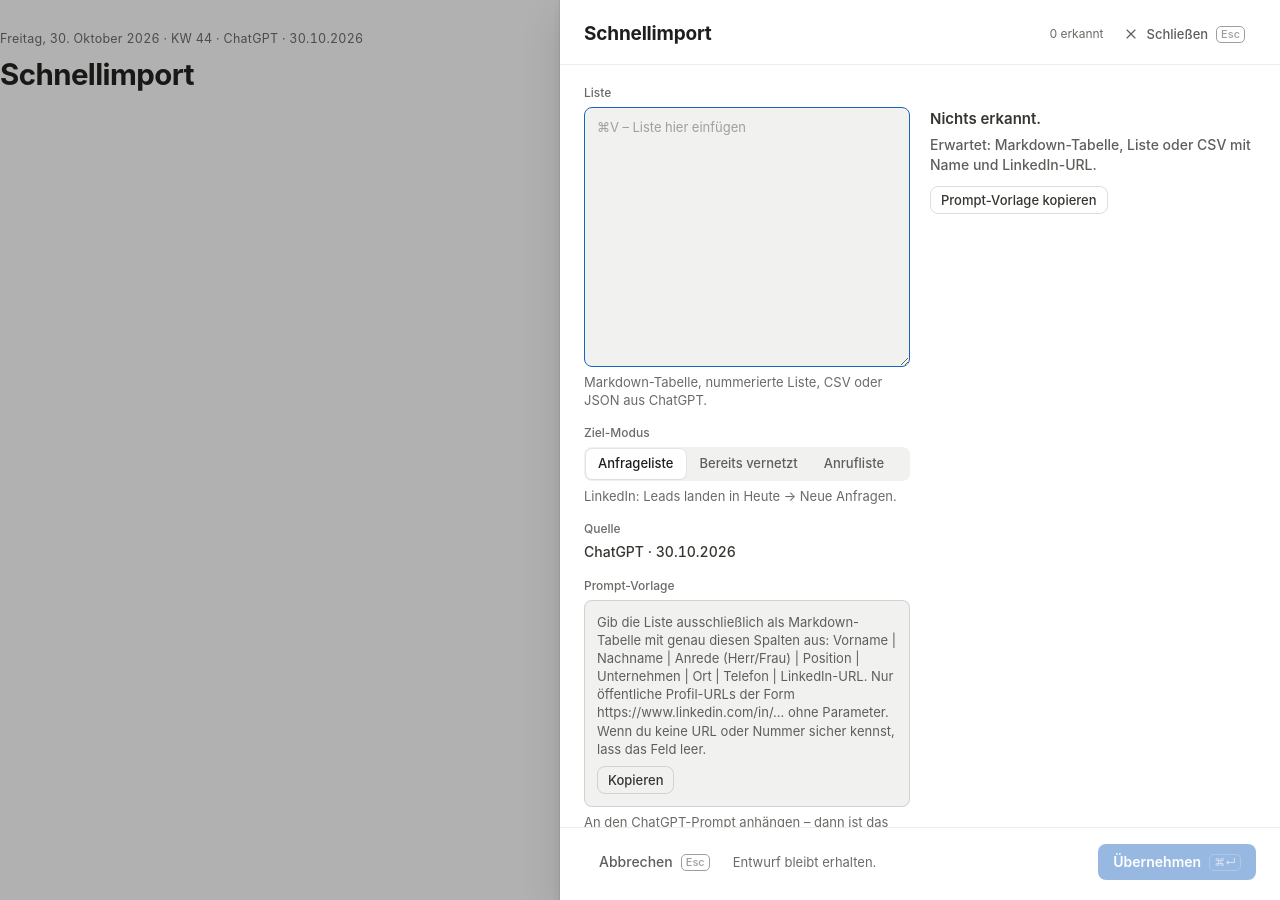
Test: Schnellimport › I-07: parst die Liste live und zeigt je Zeile den lokalen Chip, nach dem Dry-Run die Server-Chips
The image size is (1280, 900).
Type "| Name | Position | Unternehmen | Ort | LinkedIn | |---|---|---|---|---| | Max Mustermann | Geschäftsführer | Sonnenkraft GmbH | Hamburg | https://www.linkedin.com/in/max-mustermann/ | | Frau Eva Lang" into the text box labelled "Liste" at (747, 237), box [584, 107, 910, 367]
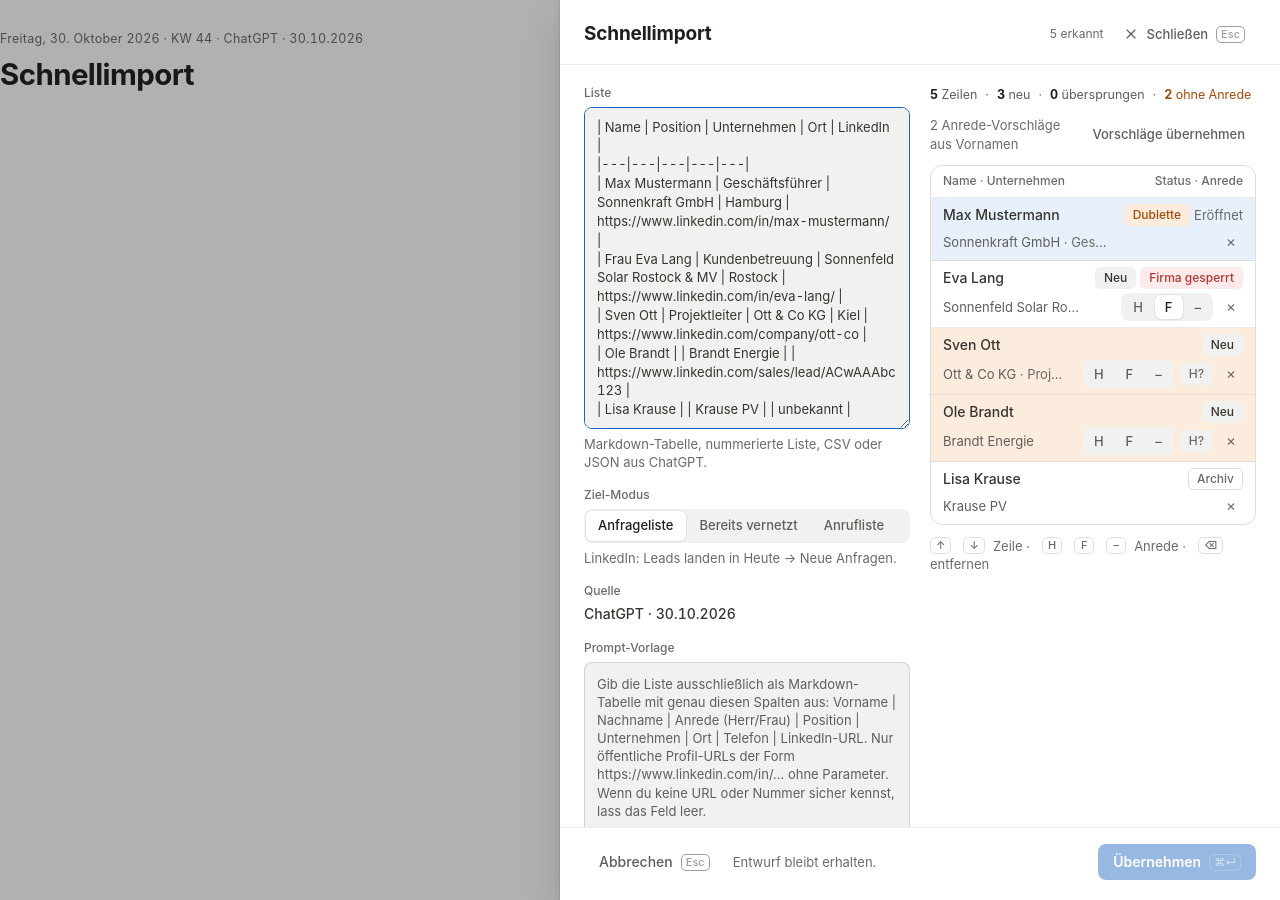
Check: the number of rows is 6, box [931, 166, 1255, 198]; [931, 198, 1255, 261]; [931, 261, 1255, 328]; [931, 328, 1255, 395]; [931, 395, 1255, 462]; [931, 462, 1255, 524]
Check: the text "Firmenseite" in the row of "Sven Ott" is shown, box [1211, 337, 1234, 352]
Check: the text "Sales-Nav" in the row of "Ole Brandt" is shown, box [1211, 404, 1234, 419]
